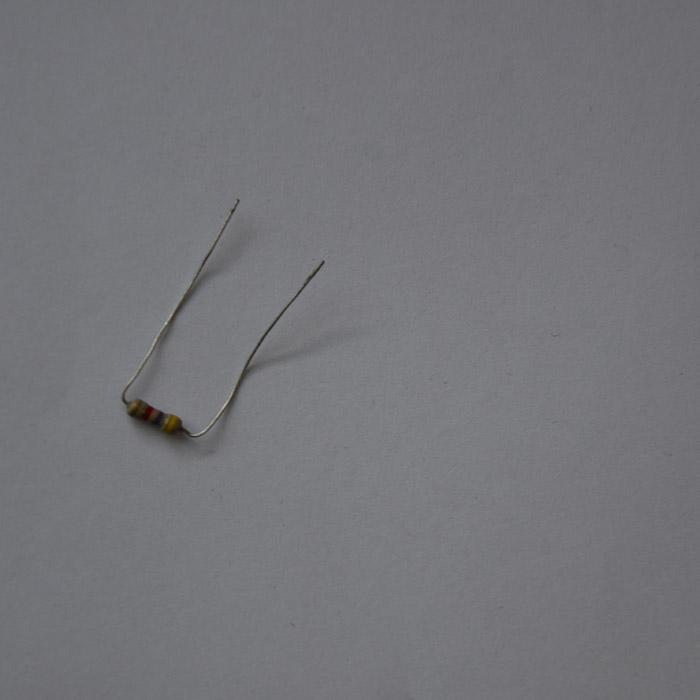resistor: (125, 398, 183, 435)
